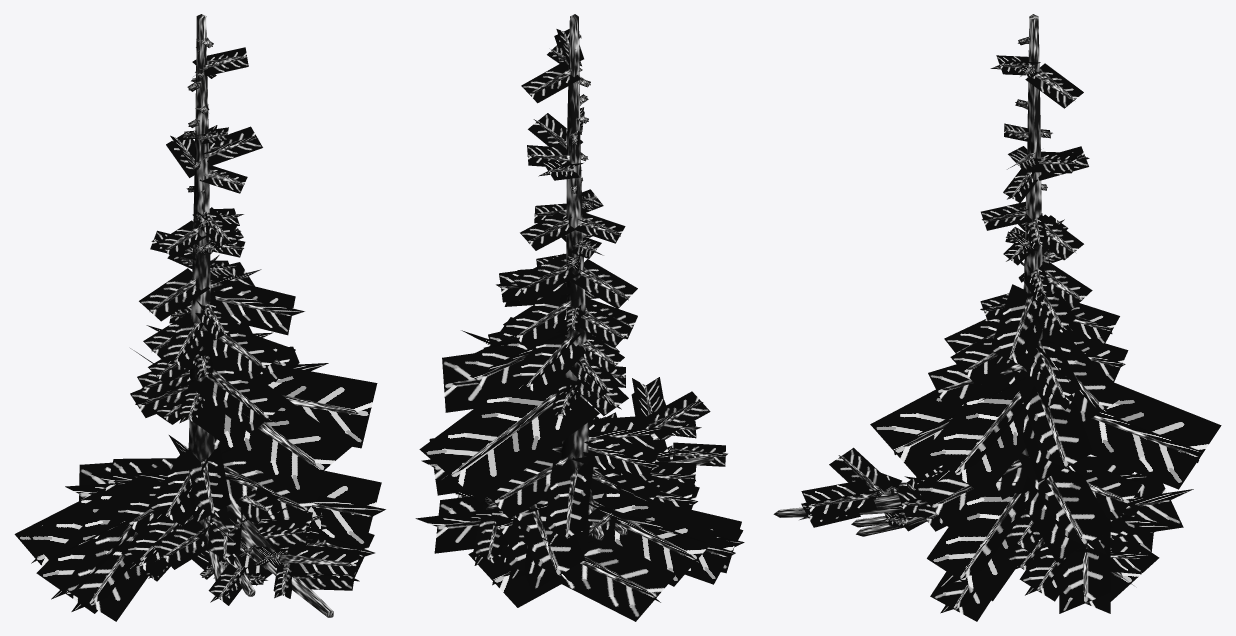
File: AraTree09a.glb
3 renders of one model, left to right at view 1: azimuth 30°, elevation 25°; view 2: azimuth 150°, elevation 25°; view 3: azimuth 270°, elevation 25°, orthographic. The views are drawn at different scales.
Parts seen in each view (by area): view 1: AraTree09a_twigs; view 2: AraTree09a_twigs; view 3: AraTree09a_twigs.
Boxes of the visible parts, <box> form: AraTree09a_twigs: <box>14,14,385,621</box>; AraTree09a_twigs: <box>415,14,744,621</box>; AraTree09a_twigs: <box>773,14,1221,621</box>.
Size of the model in its own units: 3.1 by 5.34 by 3.8.
2 materials, 2 textured.
